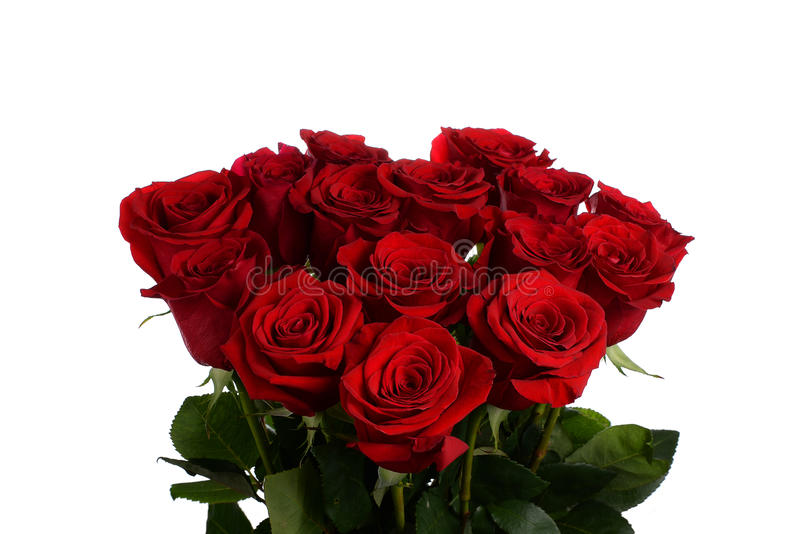RedRose: (334, 307, 497, 461), (108, 148, 262, 291), (219, 251, 355, 411), (467, 259, 617, 399), (578, 208, 689, 357), (360, 222, 489, 339), (290, 149, 421, 246), (385, 161, 493, 234), (510, 151, 602, 230)
